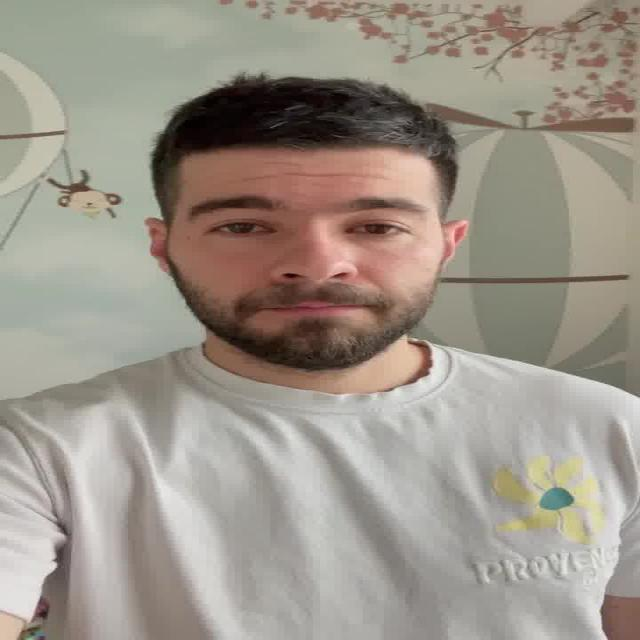earlobe: (142, 217, 174, 276), (440, 219, 470, 271)
